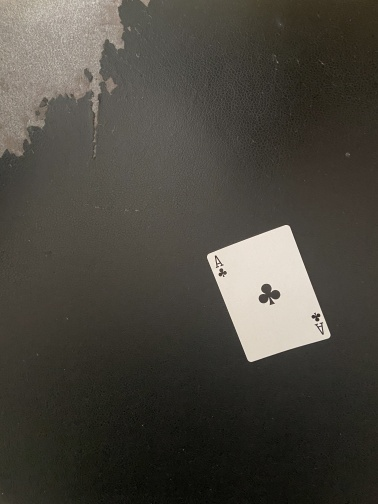ace: (206, 223, 332, 364)
